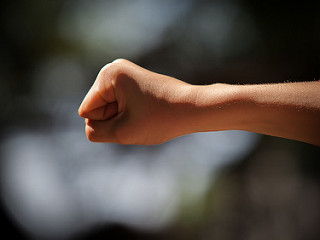fist: (80, 58, 179, 148)
